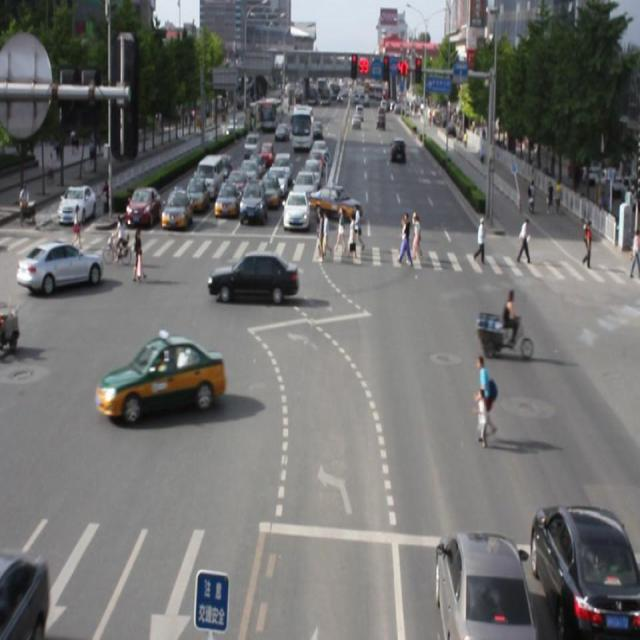BigCar: (289, 107, 318, 143)
car: (525, 480, 640, 640), (99, 338, 235, 425), (441, 516, 536, 640), (14, 224, 112, 311), (208, 231, 302, 319), (0, 514, 55, 639), (313, 175, 364, 230), (46, 175, 89, 229), (160, 187, 198, 243), (283, 180, 312, 234), (198, 153, 230, 199), (242, 182, 272, 228), (128, 182, 157, 228), (215, 183, 245, 225), (239, 153, 262, 184), (389, 136, 412, 162), (276, 148, 295, 179), (263, 138, 276, 165), (244, 135, 262, 153)
